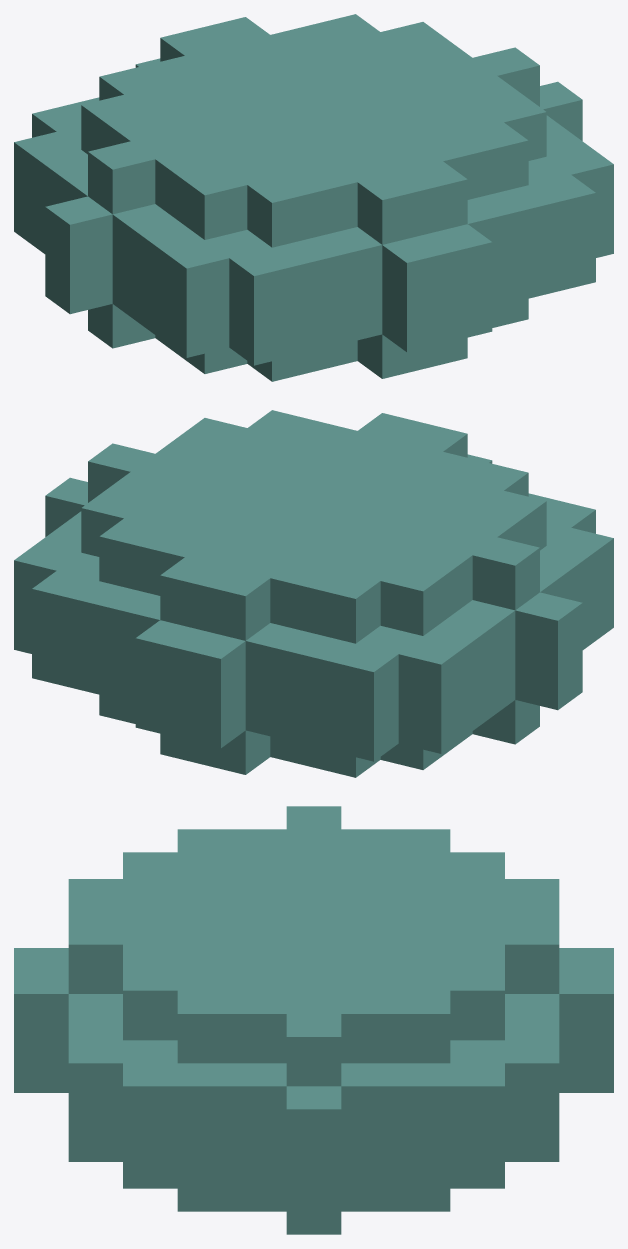
File: collar.glb
3 renders of one model, top to bottom at view 1: azimuth 30°, elevation 25°; view 2: azimuth 150°, elevation 25°; view 3: azimuth 270°, elevation 25°, orthographic. The views are drawn at different scales.
Bounding box in the file's own units: 12 × 4 × 11.
